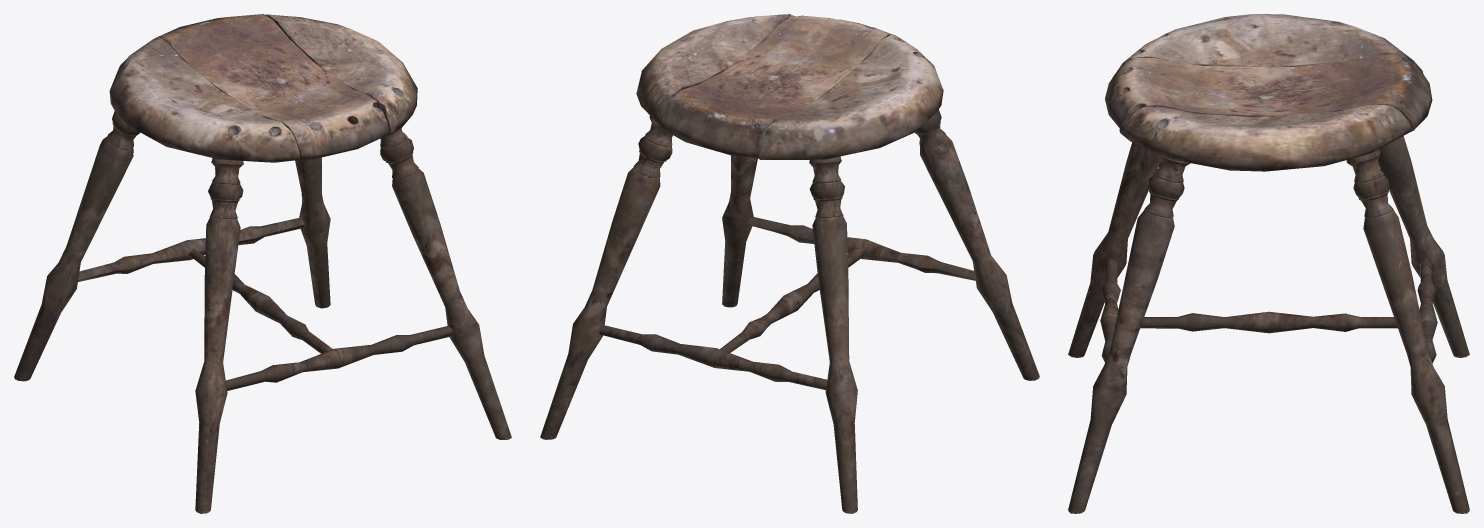
The model's file is prop_stool.glb.
The picture shows the model from 3 angles, left to right: view 1: azimuth 30°, elevation 25°; view 2: azimuth 150°, elevation 25°; view 3: azimuth 270°, elevation 25°; orthographic projection. The views are drawn at different scales.
Visible parts, largest first — view 1: wooden_stool_01; view 2: wooden_stool_01; view 3: wooden_stool_01.
Boxes of the visible parts, x1,y1,x2,y2 form: wooden_stool_01: (14,14,511,513); wooden_stool_01: (540,14,1039,513); wooden_stool_01: (1068,14,1469,513).
Size of the model in its own units: 0.4867 by 0.5 by 0.506.
1 material, 1 textured.
